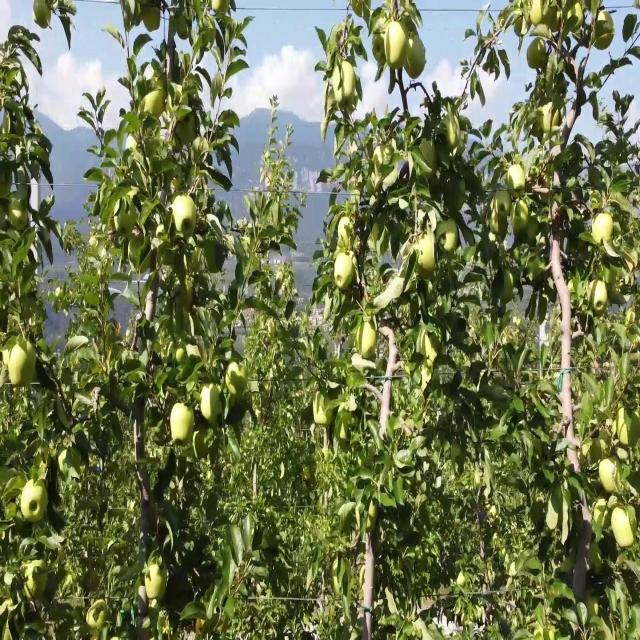apple: (8, 341, 39, 391), (172, 191, 196, 242), (404, 35, 428, 82), (200, 383, 224, 430), (384, 21, 407, 69), (24, 483, 49, 526), (612, 504, 636, 548), (356, 319, 379, 363), (172, 405, 195, 448), (416, 234, 436, 281), (616, 412, 640, 448), (600, 455, 622, 494), (148, 561, 168, 603), (592, 213, 615, 249), (448, 177, 467, 219), (28, 561, 48, 599), (8, 199, 29, 235), (336, 255, 355, 293), (528, 35, 548, 71), (596, 14, 616, 50), (204, 241, 224, 277), (420, 135, 439, 171), (440, 220, 460, 254), (228, 362, 248, 395), (508, 163, 527, 197), (180, 113, 198, 148), (340, 63, 357, 100), (196, 426, 214, 460), (176, 284, 196, 313), (172, 120, 192, 149), (144, 7, 163, 36), (316, 398, 335, 427), (592, 284, 608, 318), (512, 206, 529, 238), (424, 334, 442, 364), (444, 120, 461, 151), (372, 28, 386, 64), (148, 92, 165, 121), (496, 191, 512, 220), (176, 14, 191, 43), (492, 213, 508, 240), (544, 7, 560, 34), (92, 604, 108, 631), (608, 284, 627, 306), (568, 7, 584, 32), (504, 270, 515, 306), (0, 170, 12, 201), (188, 248, 202, 274), (548, 7, 561, 34), (212, 0, 229, 20), (36, 7, 52, 28), (504, 277, 515, 306), (224, 391, 238, 412), (528, 220, 540, 244), (532, 7, 544, 28), (516, 14, 526, 36), (196, 618, 207, 638), (628, 305, 637, 327), (176, 348, 187, 364), (532, 120, 542, 137), (544, 113, 551, 135), (352, 7, 364, 16)
